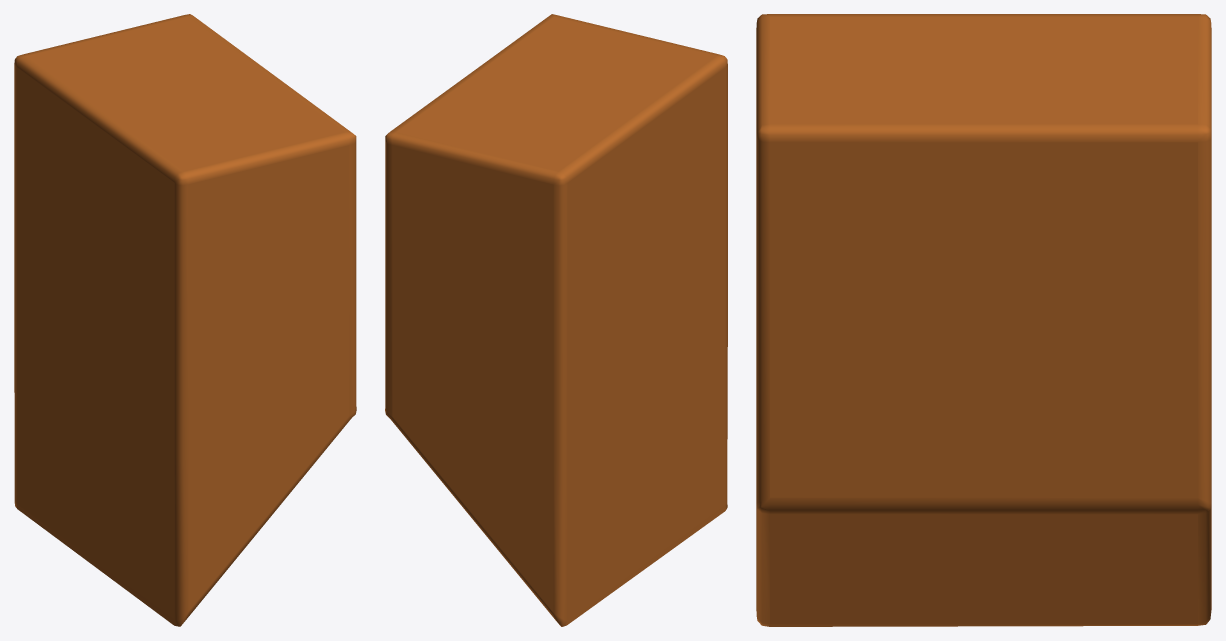
The model's file is Left Small Detail.fbx.
3 renders of one model, left to right at view 1: azimuth 30°, elevation 25°; view 2: azimuth 150°, elevation 25°; view 3: azimuth 270°, elevation 25°, orthographic. The views are drawn at different scales.
Visible parts, largest first — view 1: Left_Small_Detail; view 2: Left_Small_Detail; view 3: Left_Small_Detail.
Part boxes in pixels (left/top/right/bottom): Left_Small_Detail: left=14, top=14, right=356, bottom=626; Left_Small_Detail: left=385, top=14, right=727, bottom=626; Left_Small_Detail: left=756, top=14, right=1211, bottom=626.
Bounding box in the file's own units: 6.2 × 14.89 × 10.
